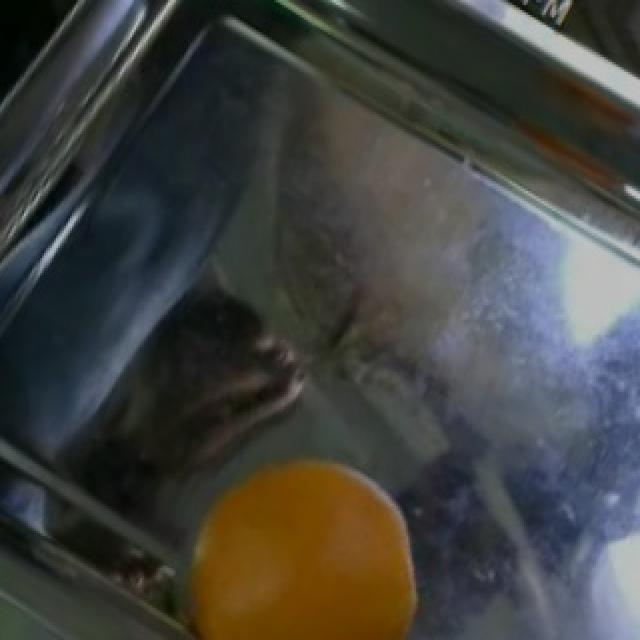Fruit: (160, 434, 436, 638)
